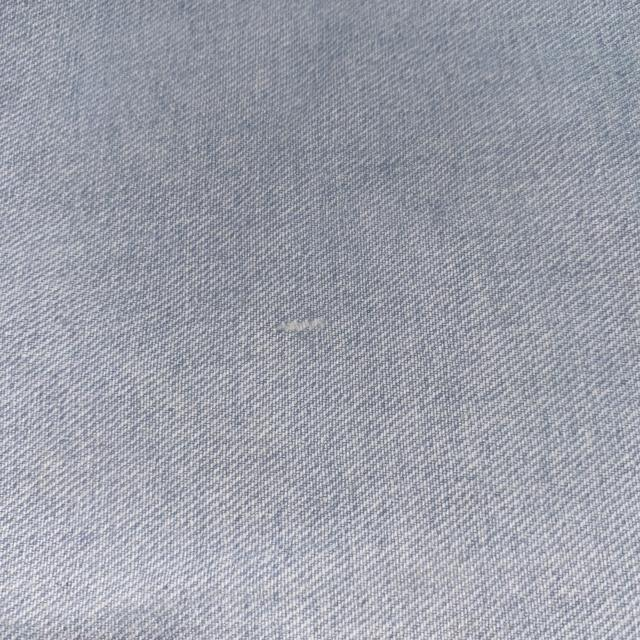Knot: (276, 317, 326, 332)
